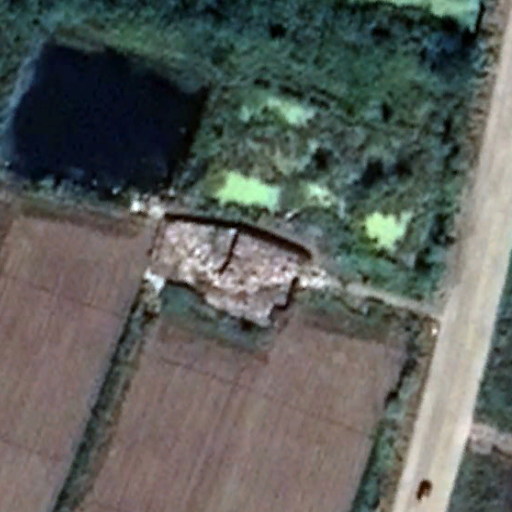msw: (152, 220, 304, 323)
